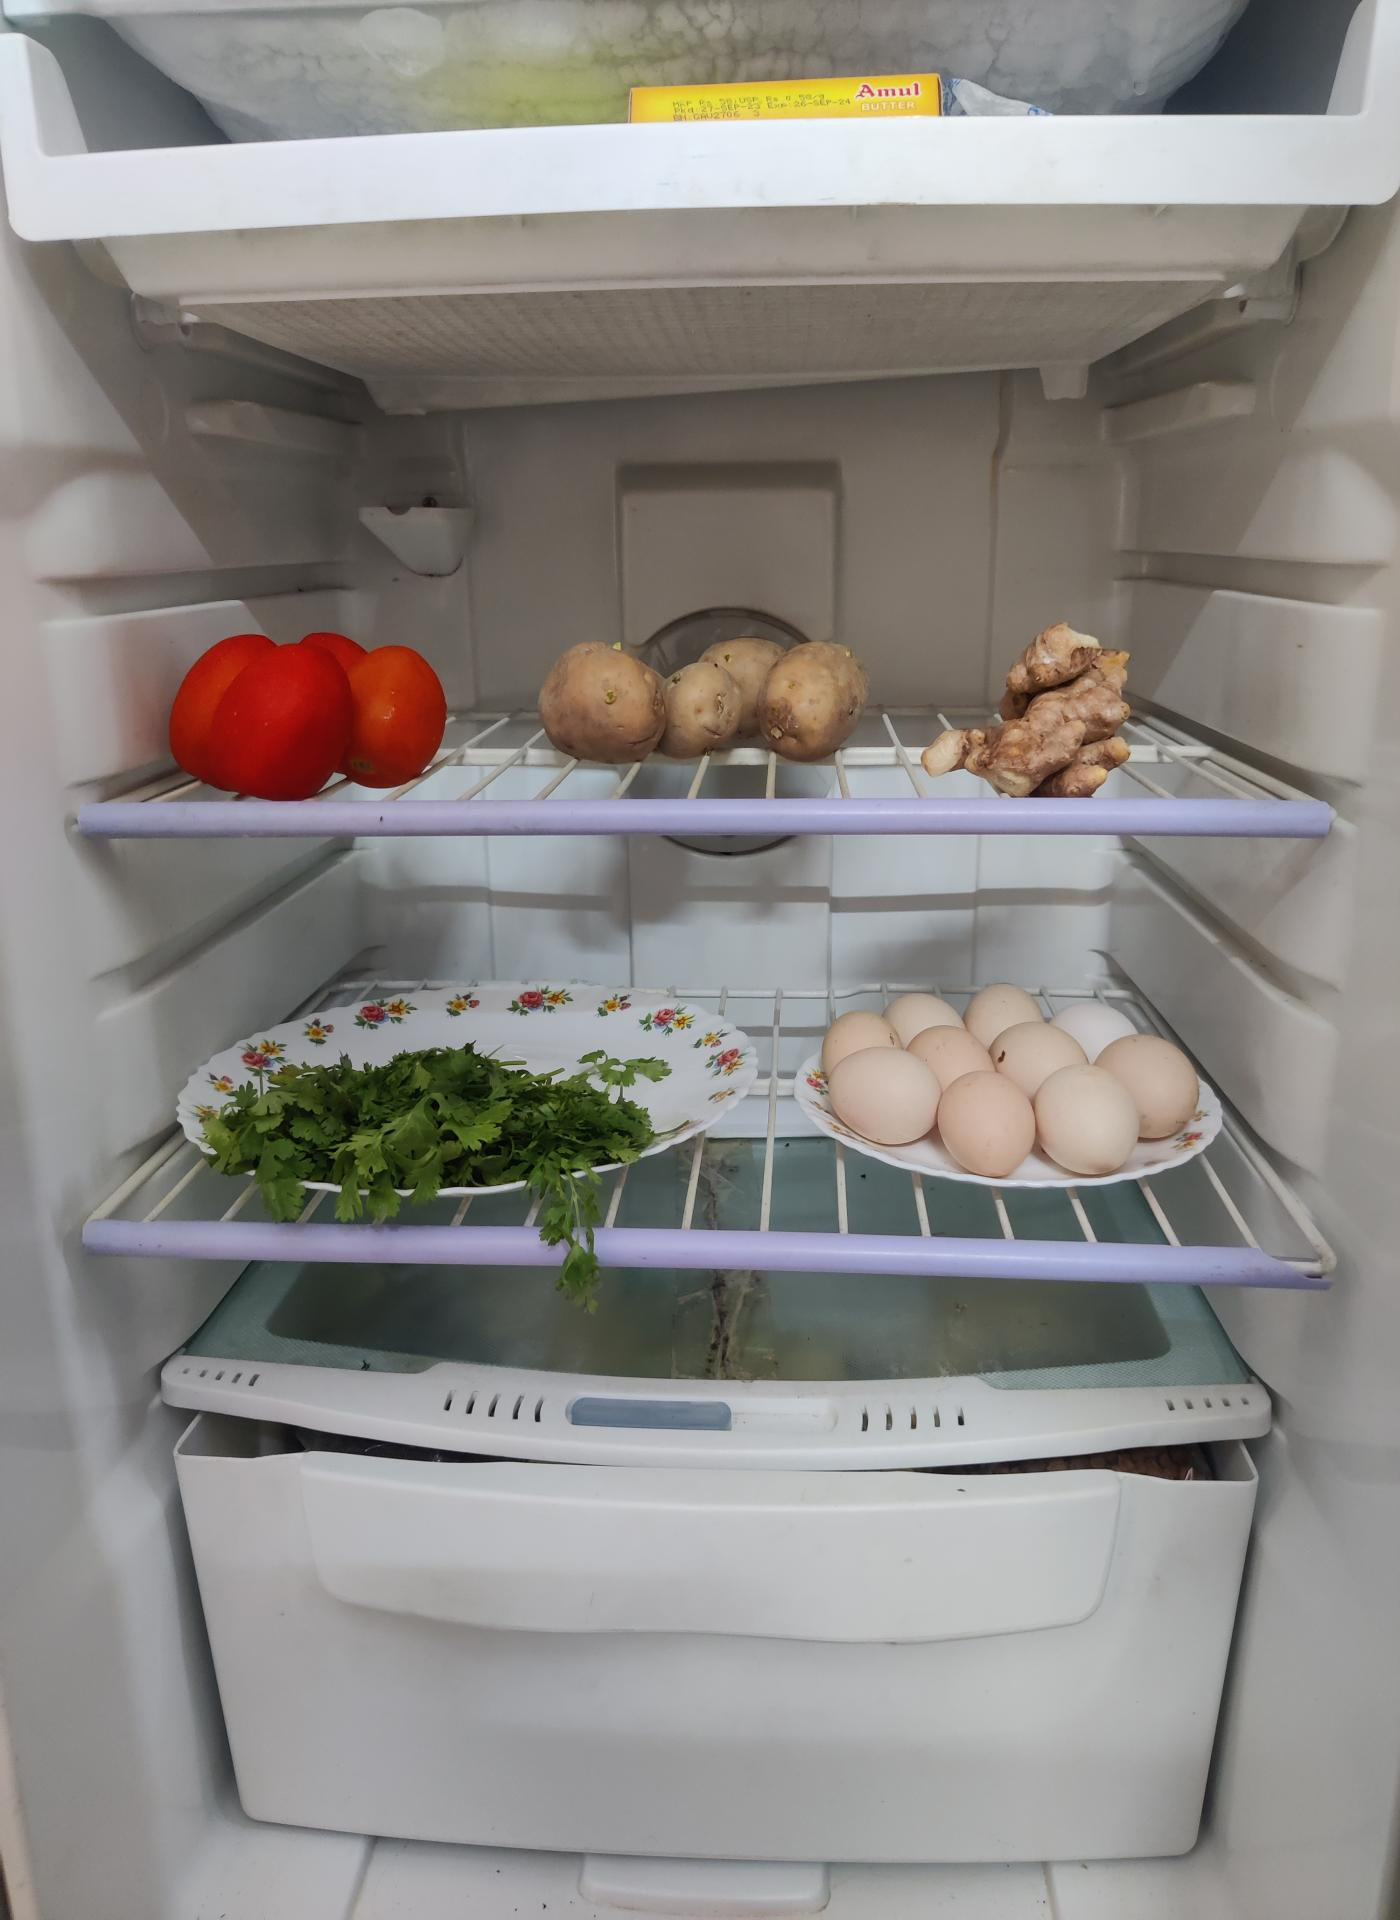coriander: (201, 1040, 658, 1201)
egg: (805, 993, 1193, 1197)
ginger: (945, 625, 1139, 800)
potato: (541, 620, 872, 759)
tomato: (171, 625, 452, 793)
